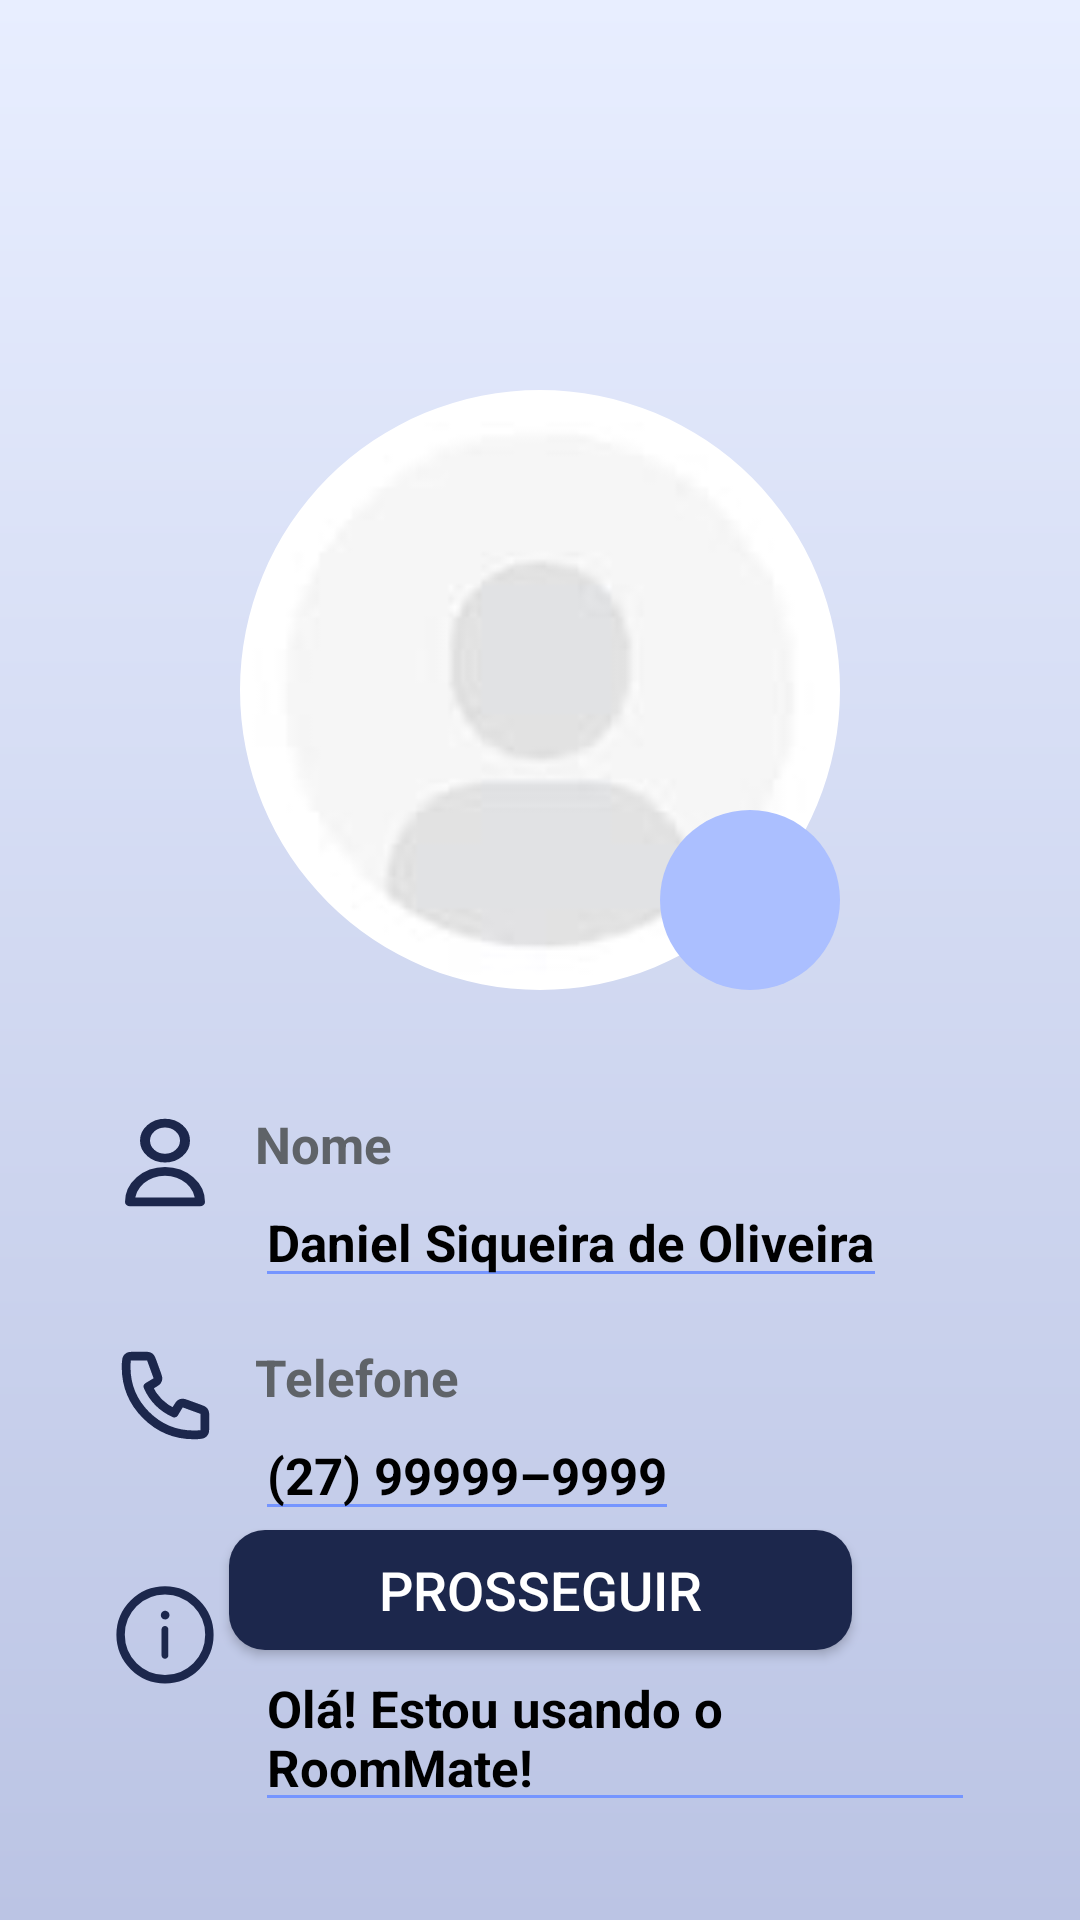

Screen size 1080 × 1920. Icon name, then its center in pixels as (x,y):
Ícone de informação: (165,1635)
Ícone usuário: (165,1162)
